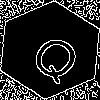Q: (25, 25, 91, 87)
